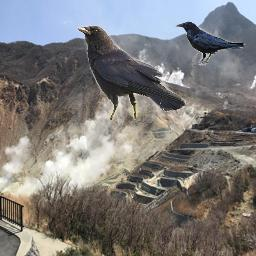Crow: (76, 25, 186, 120), (175, 21, 246, 66)
